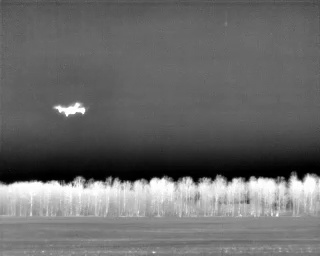DRONE: (50, 97, 91, 122)
